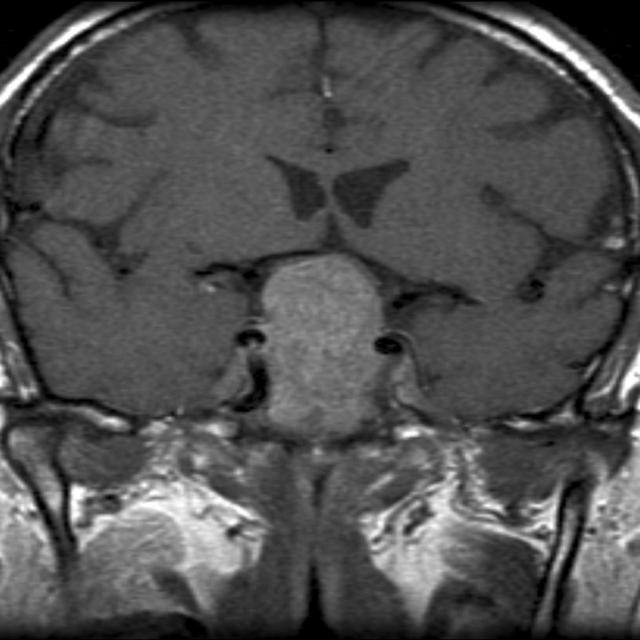pituitary: (234, 244, 403, 437)
